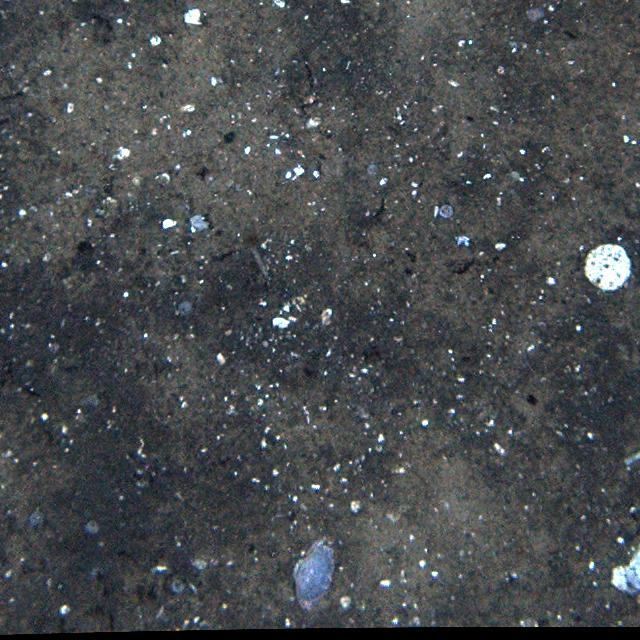crab: (292, 535, 338, 610)
